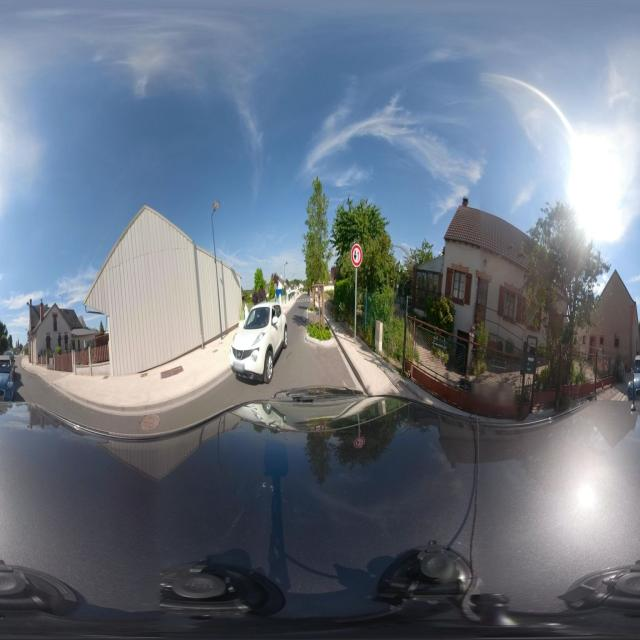car: (230, 300, 288, 384), (0, 356, 14, 401)
